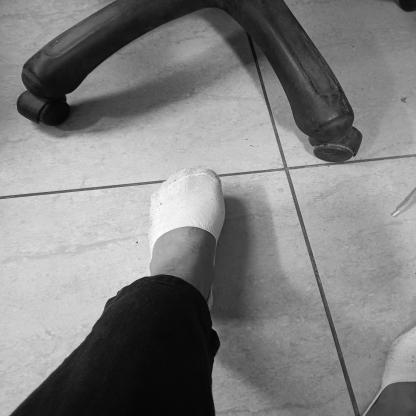ankle: (209, 271, 212, 273)
heel: (210, 305, 212, 306)
left_foot: (149, 167, 228, 314)
pinky: (155, 195, 158, 198)
toe: (213, 176, 217, 179)
